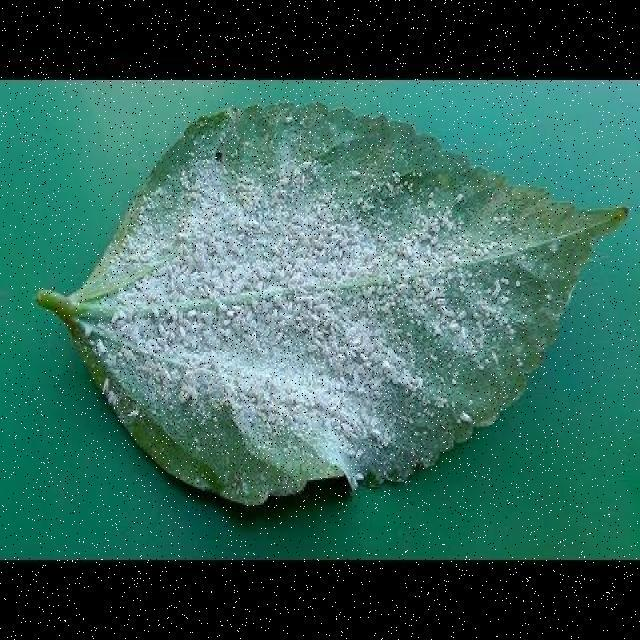Whiteflies: (58, 127, 569, 463)
